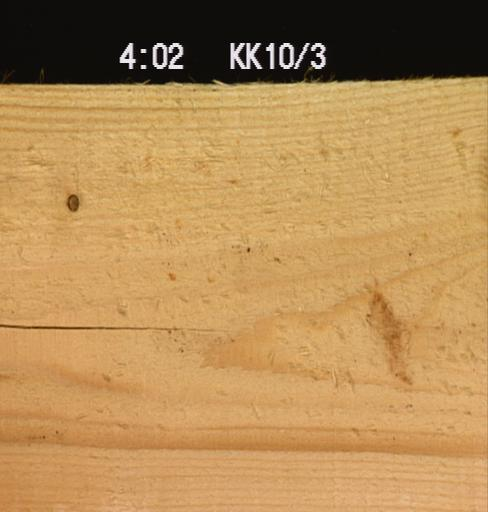dry_knot: (64, 189, 79, 213)
split: (0, 319, 239, 333)
